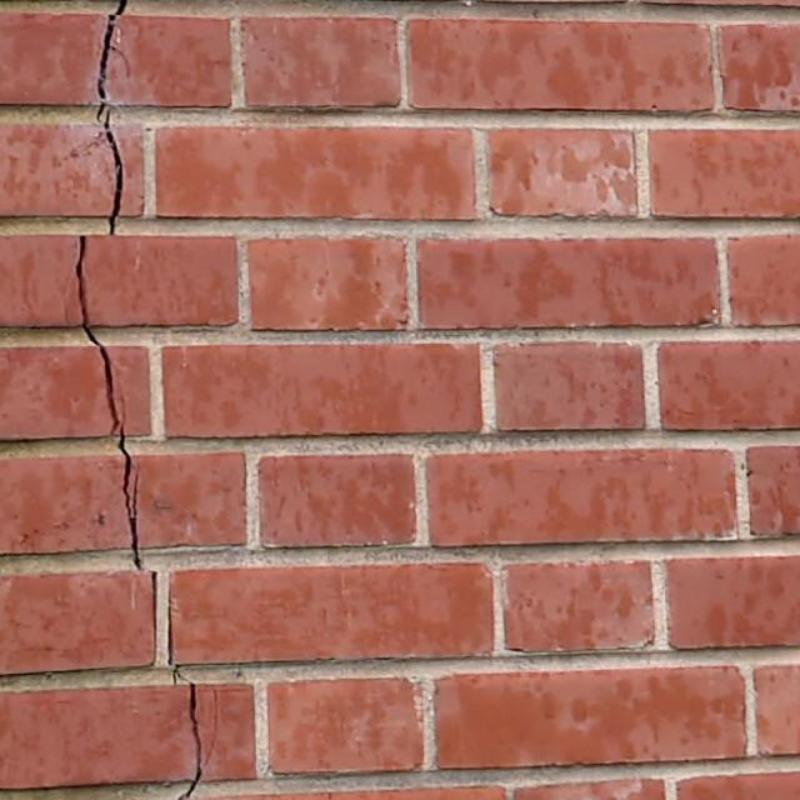crack: (77, 239, 142, 569), (97, 0, 127, 235), (177, 683, 203, 799), (202, 689, 219, 769), (172, 665, 190, 686)
